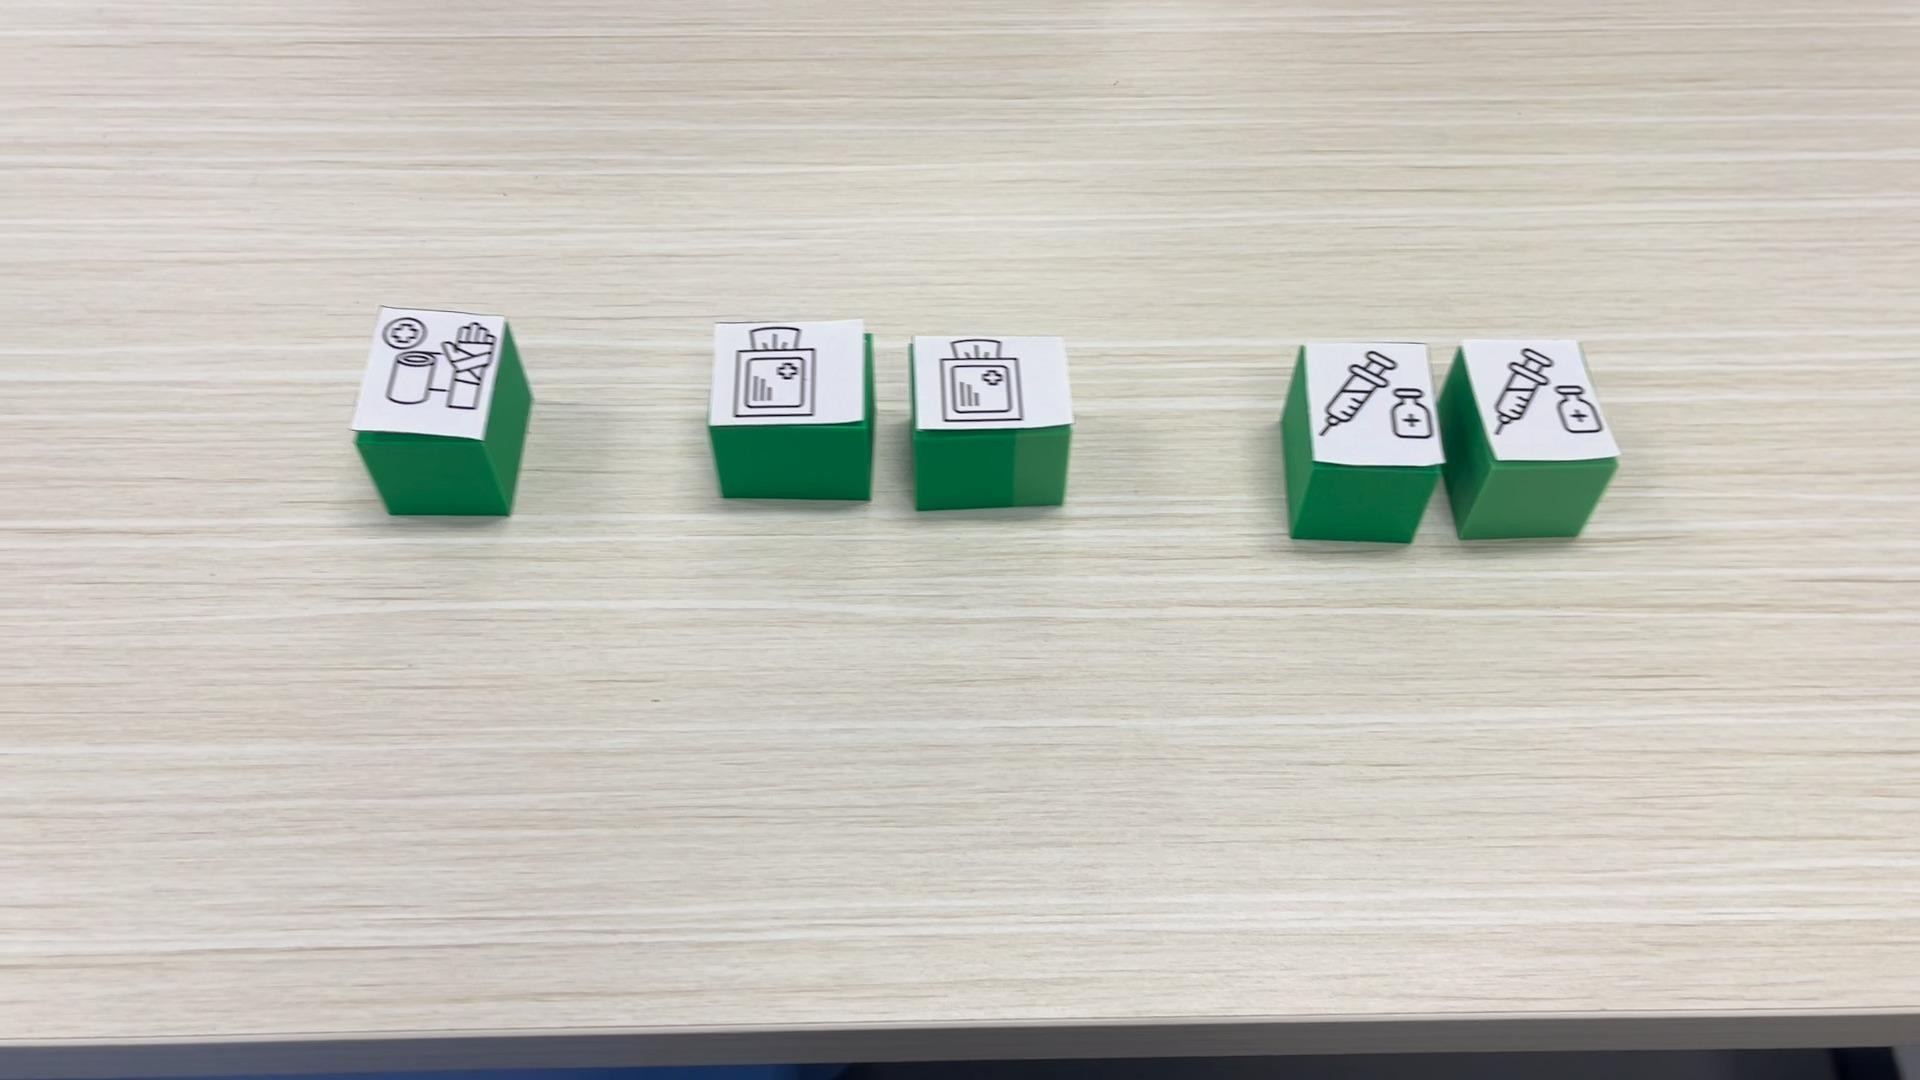Bandages: (349, 306, 533, 517)
Gauze: (906, 324, 1075, 509), (705, 316, 872, 502)
antiseptic cream: (1436, 334, 1621, 542), (1280, 339, 1445, 541)
